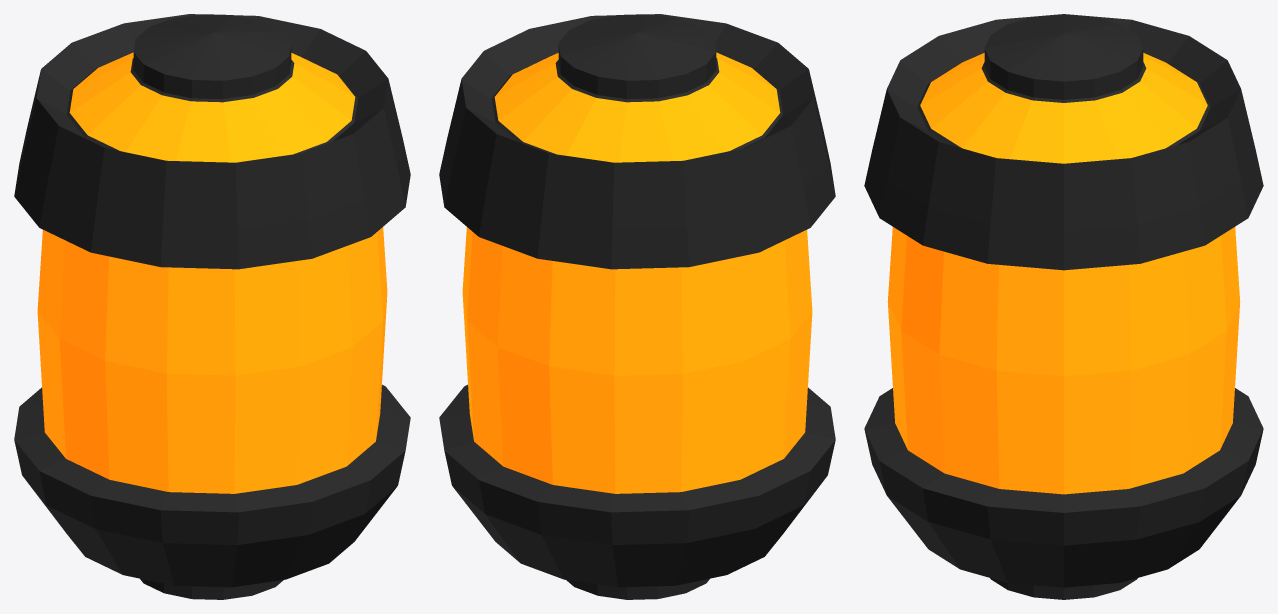
The model's file is Beacon-bombLvl2.fbx.
The picture shows the model from 3 angles, left to right: view 1: azimuth 30°, elevation 25°; view 2: azimuth 150°, elevation 25°; view 3: azimuth 270°, elevation 25°; orthographic projection.
Parts seen in each view (by area): view 1: Sphere.001; view 2: Sphere.001; view 3: Sphere.001.
Part boxes in pixels (<box>): Sphere.001: <box>14,14,410,599</box>; Sphere.001: <box>439,14,835,599</box>; Sphere.001: <box>864,14,1263,599</box>.
Bounding box in the file's own units: 192 × 291 × 192.
